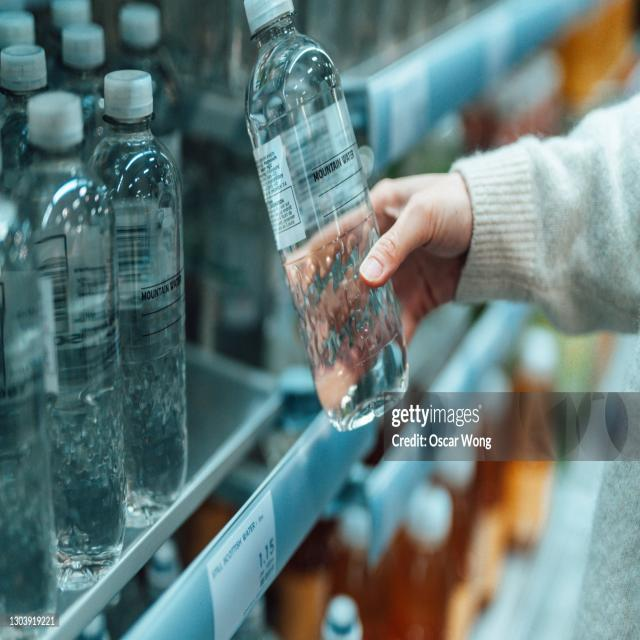bottle: (238, 4, 408, 452), (13, 92, 127, 590), (87, 68, 189, 530)
